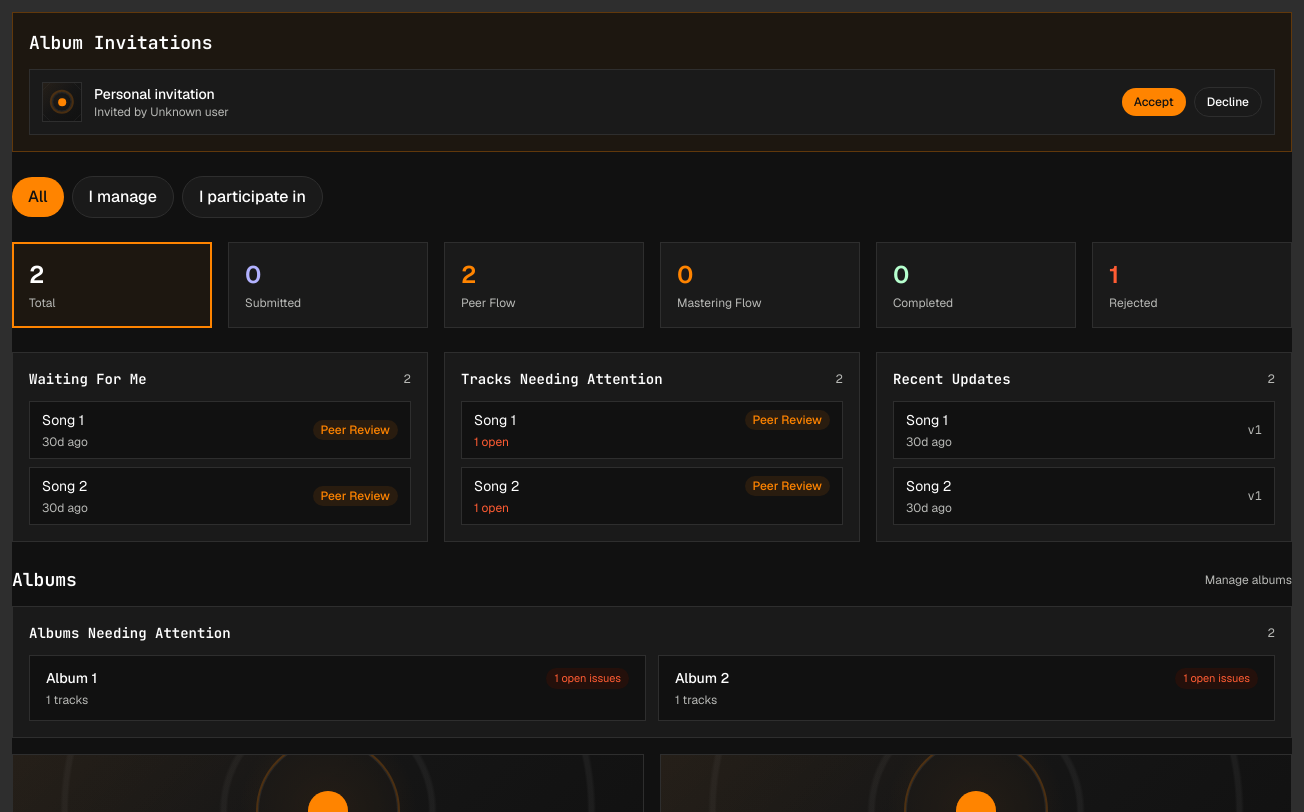
Test: Dashboard personal scope › defaults to all and updates every dashboard section while keeping invitations
Click the button "I manage" at [123, 197], box x1=72 y1=176 x2=174 y2=218
(page scrolled)
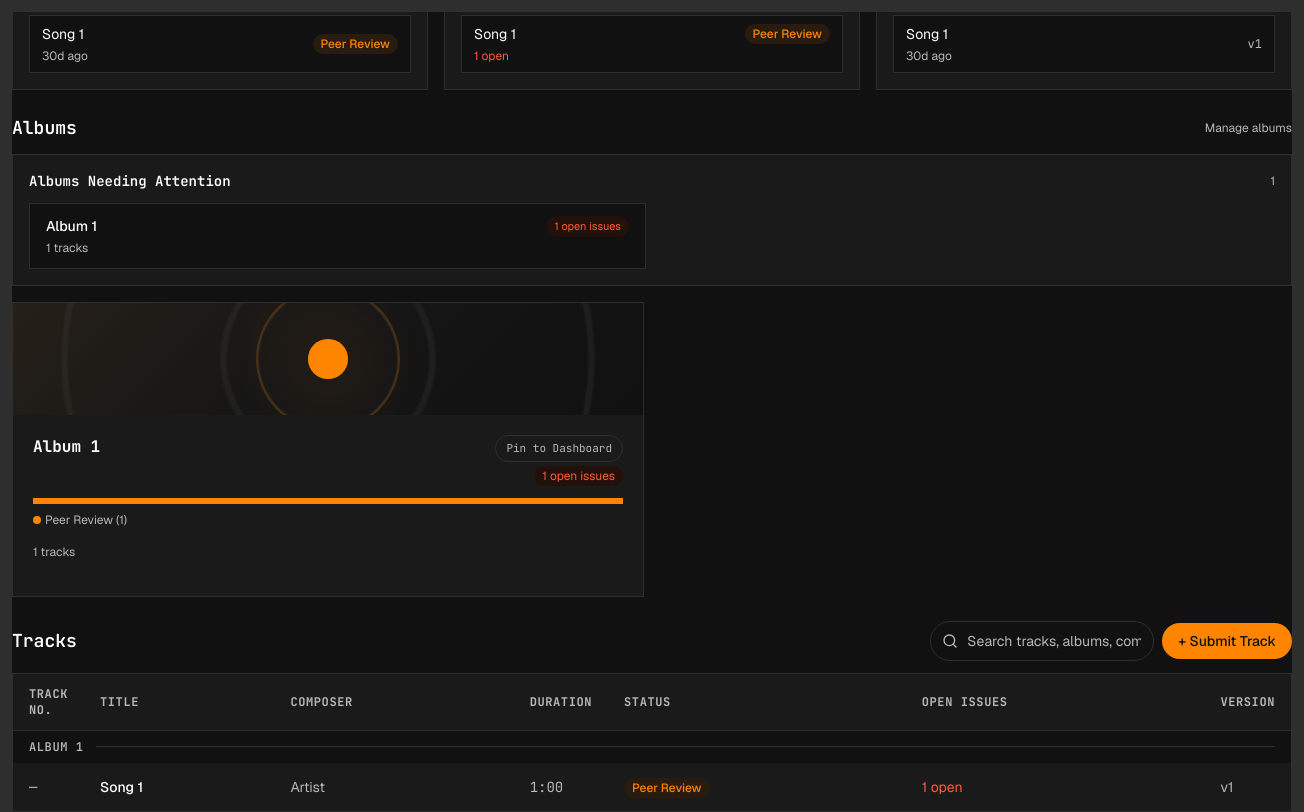
Expected: the text "Song 2" is gone
Expected: the text "Album 2" is gone
Expected: the button "Song 2" no longer shows "Song 2"
